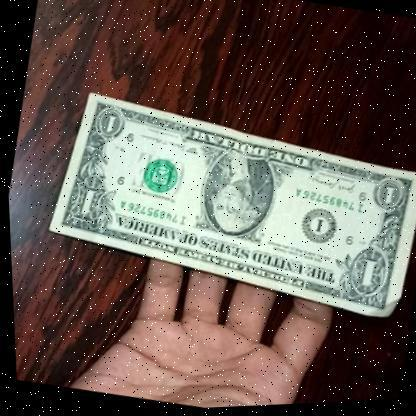one-front: (33, 83, 416, 340)
